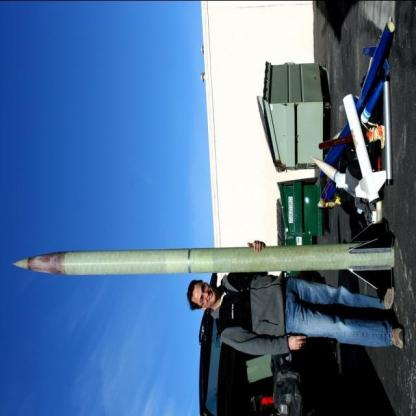MIL_TBM: (13, 242, 395, 279)
